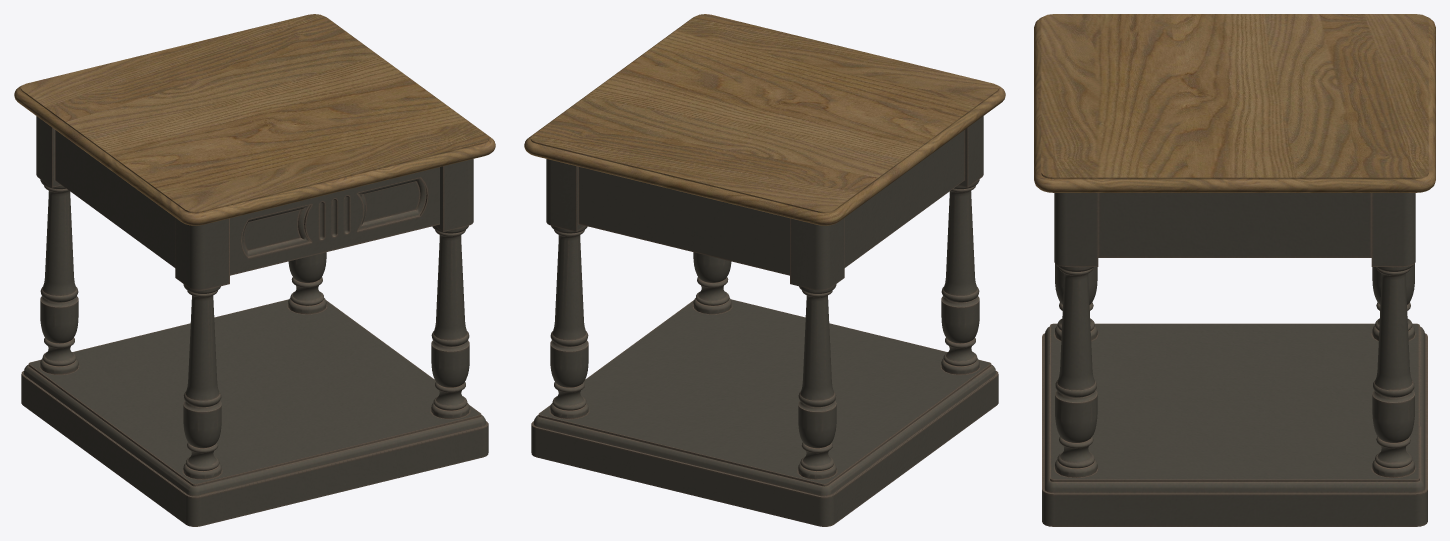
File: example155.gltf
3 views of the same model, side by side, from view 1: azimuth 30°, elevation 25°; view 2: azimuth 150°, elevation 25°; view 3: azimuth 270°, elevation 25° (orthographic). The views are drawn at different scales.
Size of the model in its own units: 50 by 48 by 50.
2 materials, 2 textured.
